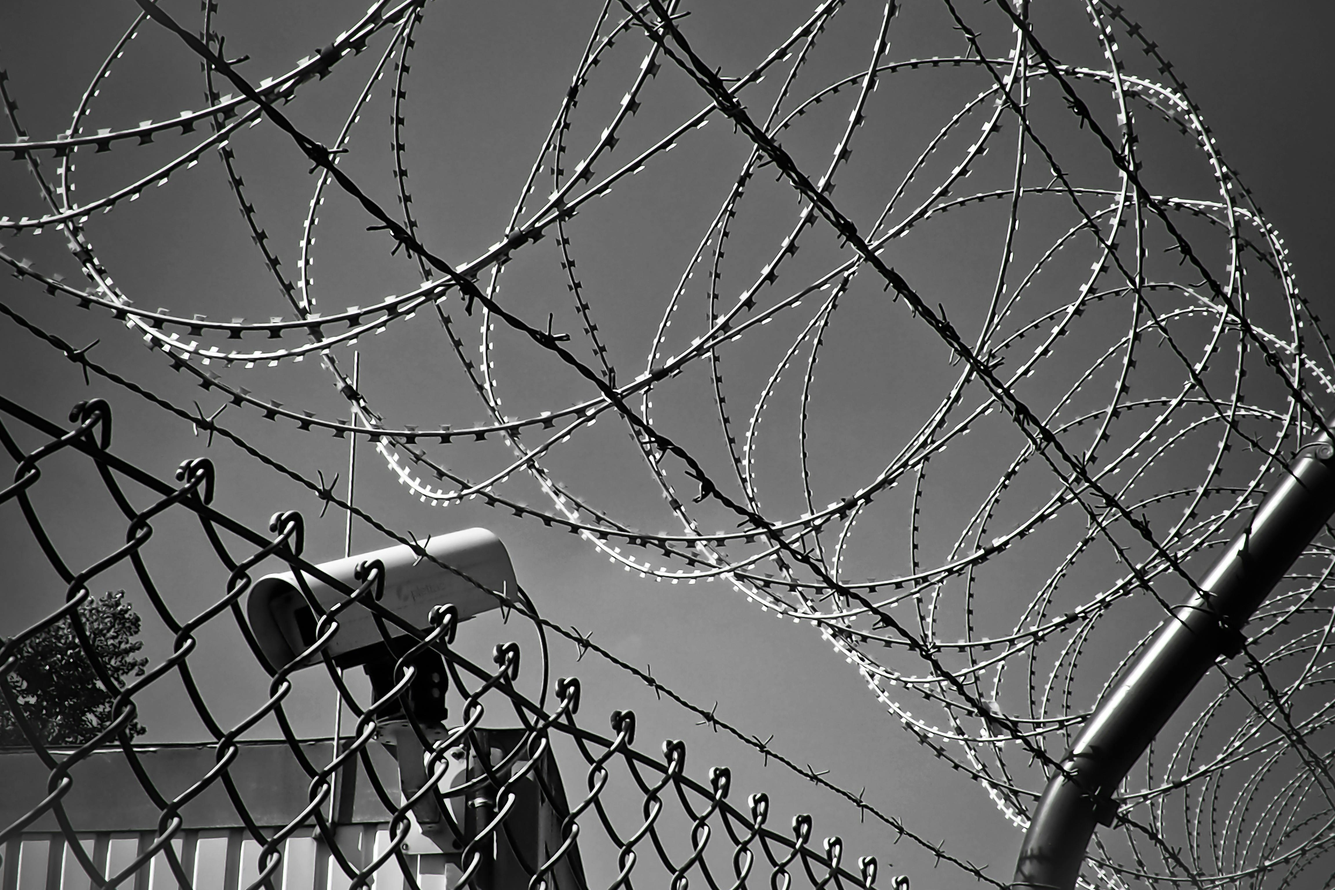camera: (104, 397, 629, 736)
